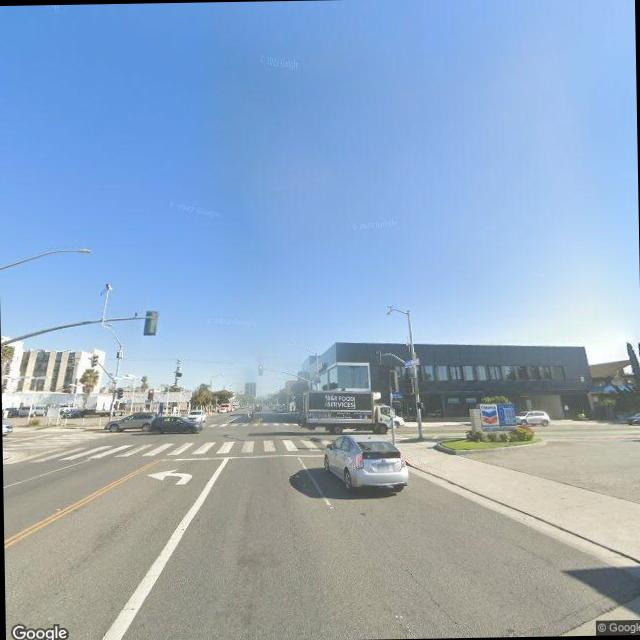pothole: (384, 546, 466, 636)
